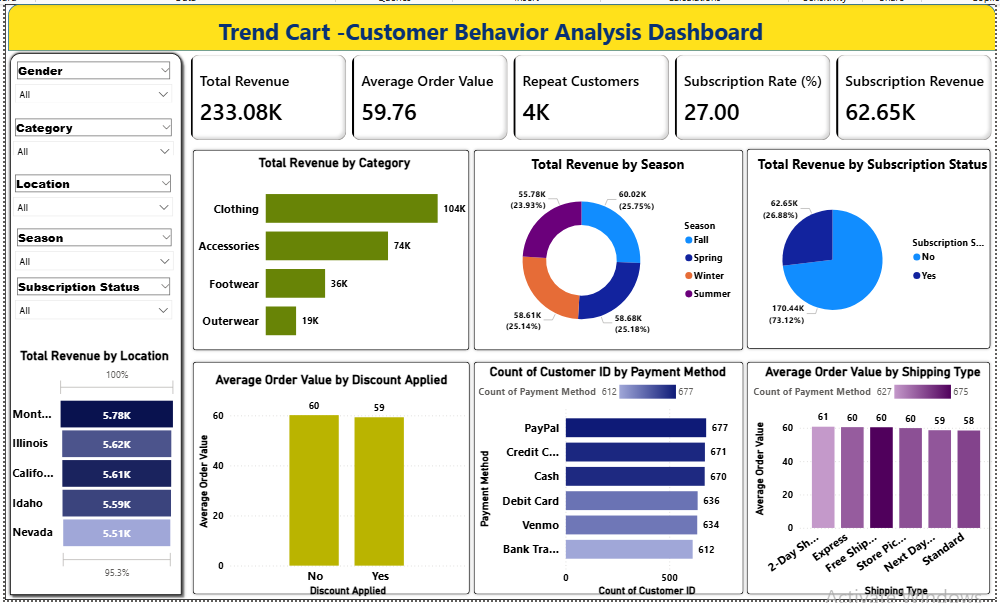

Layout of this report page (visuals, bound fields, positions):
{"tool":"powerbi","page":{"name":"Page 1","canvas":[1400,842],"ordinal":0},"visuals":[{"type":"shape","box":[0,0,1400,842],"z":0},{"type":"shape","box":[4.2,0,1395.8,66.4],"z":1000},{"type":"cardVisual","fields":{"Data":["customer shopping behavior.Total Revenue","customer shopping behavior.Average Order Value","customer shopping behavior.Repeat Customers","customer shopping behavior.Subscription Rate (%)","customer shopping behavior.Subscription Revenue"]},"box":[257,65.9,1143,131.9],"z":2000},{"type":"textbox","box":[297.2,11.4,860.8,65],"z":3000},{"type":"shape","box":[257.1,197.8,406.9,299.5],"z":4000},{"type":"shape","box":[1039.4,196.5,360.6,298.8],"z":5000},{"type":"shape","box":[654.3,497.1,397.3,344.9],"z":6000},{"type":"shape","box":[1039.9,497.1,360.1,344.9],"z":7000},{"type":"shape","box":[257,497.1,407.5,344.9],"z":8000},{"type":"shape","box":[654.1,197.8,397,299.5],"z":9000},{"type":"barChart","fields":{"Category":["customer shopping behavior.Category"],"Y":["customer shopping behavior.Total Revenue"]},"box":[267,213.3,397,282.6],"z":10000},{"type":"donutChart","fields":{"Category":["customer shopping behavior.Season"],"Y":["customer shopping behavior.Total Revenue"]},"box":[664,213.3,375.8,272.7],"z":11000},{"type":"pieChart","fields":{"Category":["customer shopping behavior.Subscription Status"],"Y":["customer shopping behavior.Total Revenue"]},"box":[1051.1,213.3,348.9,271.2],"z":12000},{"type":"columnChart","fields":{"Category":["customer shopping behavior.Discount Applied"],"Y":["customer shopping behavior.Average Order Value"]},"box":[266.4,519.7,388.2,321.6],"z":13000},{"type":"barChart","fields":{"Category":["customer shopping behavior.Payment Method"],"Y":["CountNonNull(customer shopping behavior.Customer ID)"]},"box":[664.3,508.4,375.2,332.9],"z":14000},{"type":"columnChart","fields":{"Category":["customer shopping behavior.Shipping Type"],"Y":["customer shopping behavior.Average Order Value"]},"box":[1052.4,508.4,347.6,332.9],"z":15000},{"type":"shape","box":[0,61.6,256.6,780.1],"z":16000},{"type":"slicer","fields":{"Values":["customer shopping behavior.Gender"]},"box":[3.9,76.3,242.5,62.6],"z":17000},{"type":"slicer","fields":{"Values":["customer shopping behavior.Category"]},"box":[1.4,156.8,247.2,56.5],"z":18000},{"type":"slicer","fields":{"Values":["customer shopping behavior.Location"]},"box":[2,236.6,246.4,76.3],"z":19000},{"type":"slicer","fields":{"Values":["customer shopping behavior.Season"]},"box":[3.9,312.8,244.4,97.8],"z":20000},{"type":"slicer","fields":{"Values":["customer shopping behavior.Subscription Status"]},"box":[3.9,381.3,242.5,76.3],"z":21000},{"type":"funnel","fields":{"Category":["customer shopping behavior.Location"],"Y":["customer shopping behavior.Total Revenue"]},"box":[5.7,486,241.6,333.4],"z":22000}]}

Visuals, with their boxes in screenshot pixels (x1, y1, x2, y2):
shape: 0 0 986 593
shape: 3 0 986 47
cardVisual - customer shopping behavior.Total Revenue x customer shopping behavior.Average Order Value: 181 46 986 139
textbox: 209 8 816 54
shape: 181 139 468 350
shape: 732 138 986 349
shape: 461 350 741 593
shape: 733 350 986 593
shape: 181 350 468 593
shape: 461 139 740 350
barChart - customer shopping behavior.Category x customer shopping behavior.Total Revenue: 188 150 468 349
donutChart - customer shopping behavior.Season x customer shopping behavior.Total Revenue: 468 150 732 342
pieChart - customer shopping behavior.Subscription Status x customer shopping behavior.Total Revenue: 740 150 986 341
columnChart - customer shopping behavior.Discount Applied x customer shopping behavior.Average Order Value: 188 366 461 593
barChart - customer shopping behavior.Payment Method x CountNonNull(customer shopping behavior.Customer ID): 468 358 732 593
columnChart - customer shopping behavior.Shipping Type x customer shopping behavior.Average Order Value: 741 358 986 593
shape: 0 43 181 593
slicer - customer shopping behavior.Gender: 3 54 174 98
slicer - customer shopping behavior.Category: 1 110 175 150
slicer - customer shopping behavior.Location: 1 167 175 220
slicer - customer shopping behavior.Season: 3 220 175 289
slicer - customer shopping behavior.Subscription Status: 3 269 174 322
funnel - customer shopping behavior.Location x customer shopping behavior.Total Revenue: 4 342 174 577
